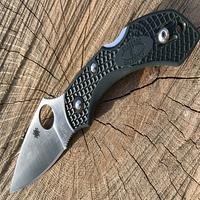knife: (7, 5, 191, 195)
